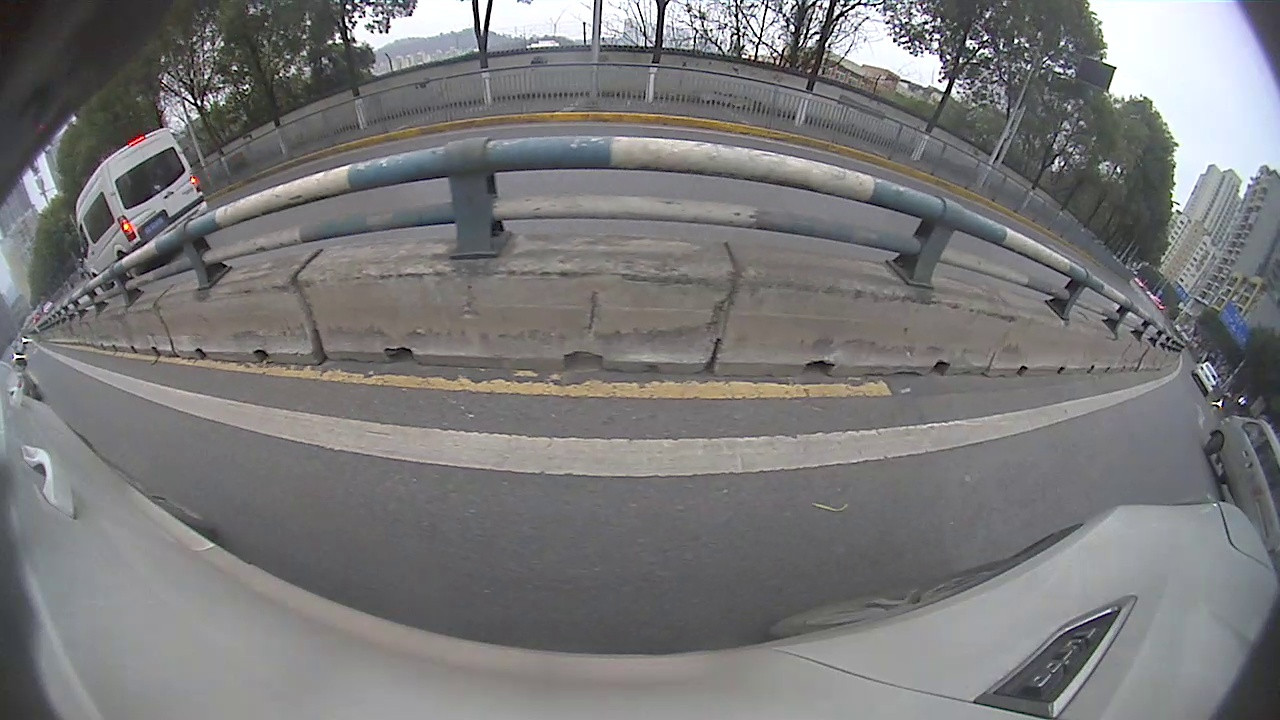car: (73, 126, 212, 294)
front: (1206, 431, 1226, 458)
